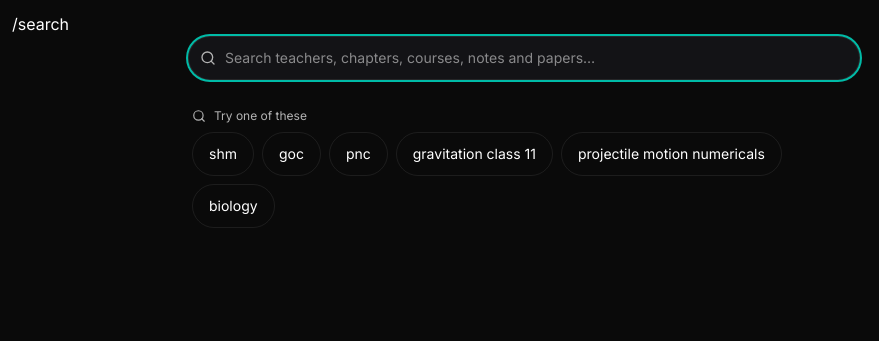
Scenario: ambiguous identity is never auto-selected (requirement 2) › lists both, each with its own institute / subject / exam context
Type "amit" into the dropdown at (524, 58), box x1=188 y1=36 x2=860 y2=80
Wait 295 ms
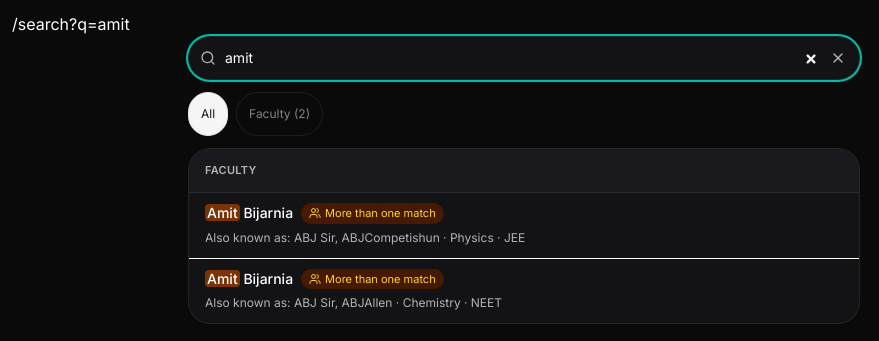
Check: the number of options is 2, box x1=189 y1=193 x2=859 y2=258; x1=189 y1=258 x2=859 y2=323
Check: the text "Competishun · Physics · JEE" is shown, box x1=364 y1=230 x2=525 y2=244
Check: the text "Allen · Chemistry · NEET" is shown, box x1=364 y1=295 x2=502 y2=310
